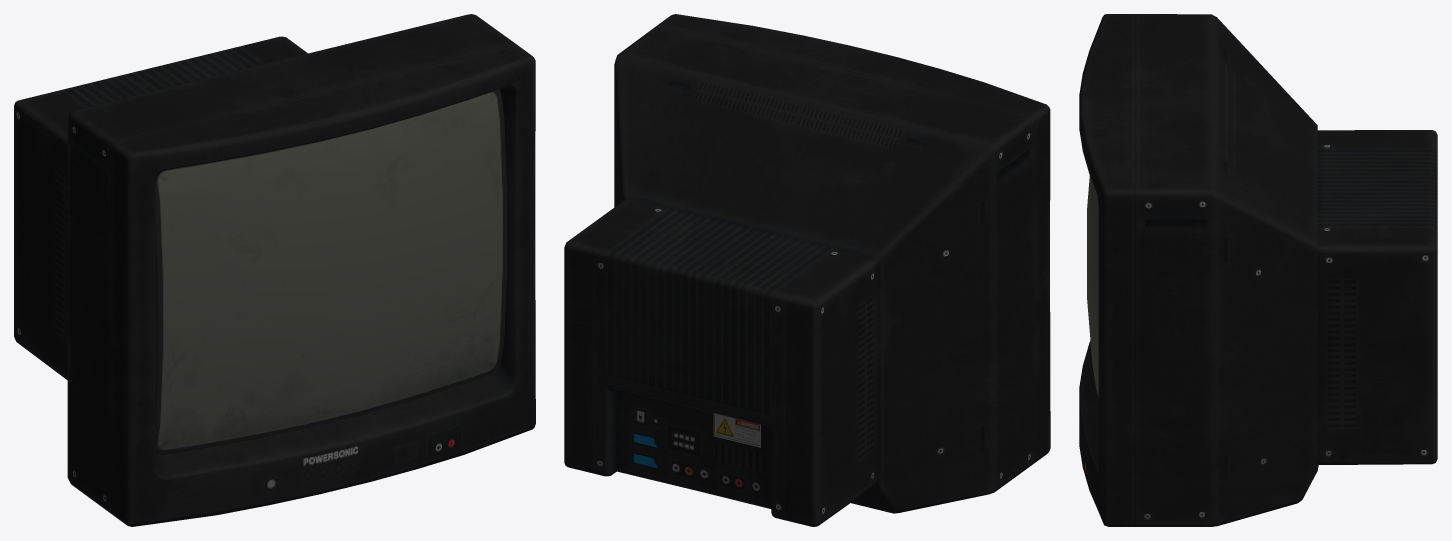
The picture shows the model from 3 angles, left to right: view 1: azimuth 30°, elevation 25°; view 2: azimuth 150°, elevation 25°; view 3: azimuth 270°, elevation 25°; orthographic projection. The views are drawn at different scales.
Parts seen in each view (by area): view 1: polySurface307; view 2: polySurface307; view 3: polySurface307.
Part boxes in pixels (<box>): polySurface307: <box>14,14,535,526</box>; polySurface307: <box>564,14,1050,526</box>; polySurface307: <box>1079,14,1437,526</box>.
Size of the model in its own units: 76.25 by 66.85 by 64.25.
